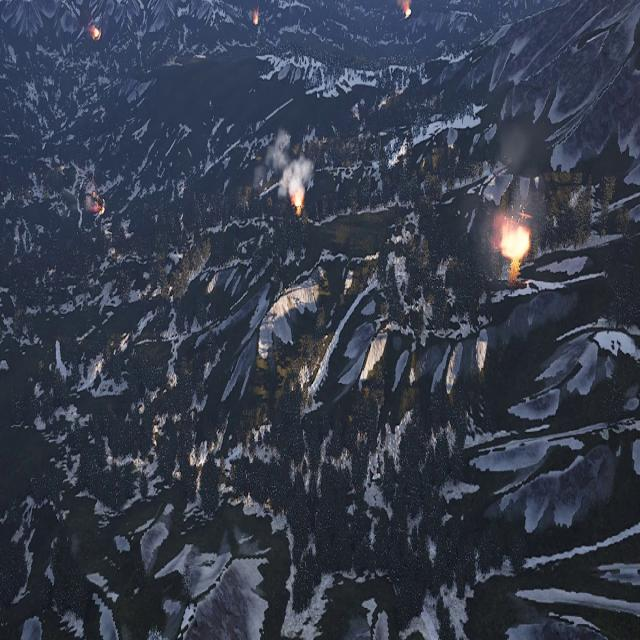fire: (499, 223, 530, 266), (92, 197, 107, 217), (291, 192, 303, 214), (401, 0, 410, 17), (92, 27, 102, 41), (252, 8, 258, 24)
smoke: (472, 122, 547, 254), (250, 127, 314, 198)
